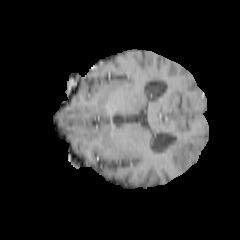glioma: (168, 137, 199, 170)
